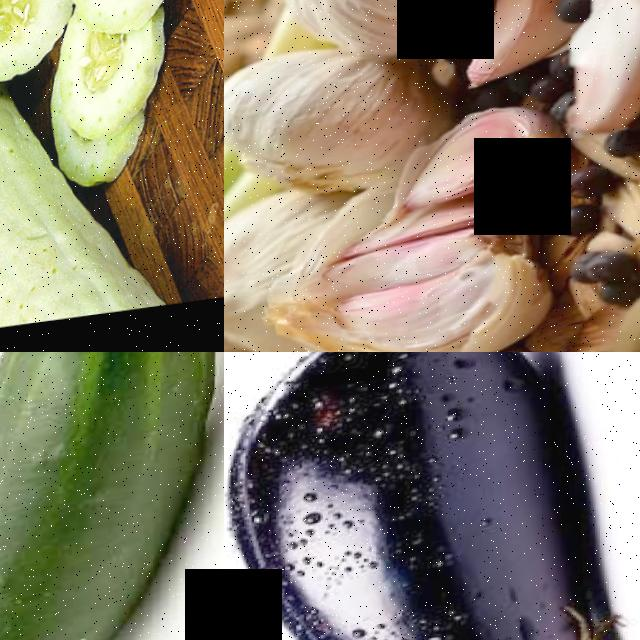cucumber: (0, 352, 224, 640)
eggplant: (224, 352, 638, 640)
garlic: (224, 49, 419, 214), (321, 203, 532, 352), (254, 0, 505, 70), (405, 112, 558, 215), (458, 0, 595, 97)
